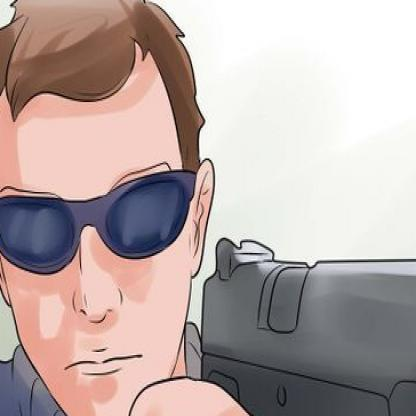gun: (185, 228, 415, 414)
